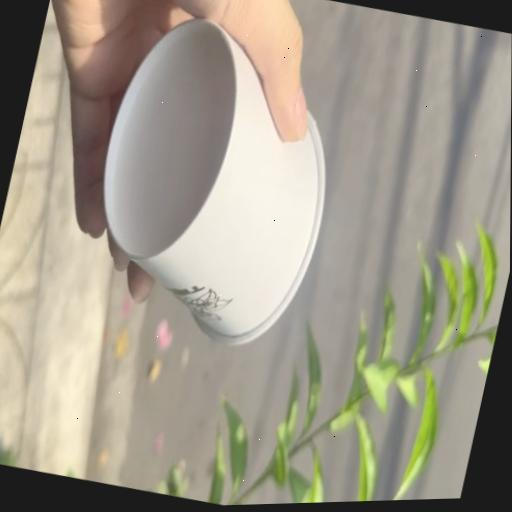Ly_giay: (103, 19, 323, 343)
